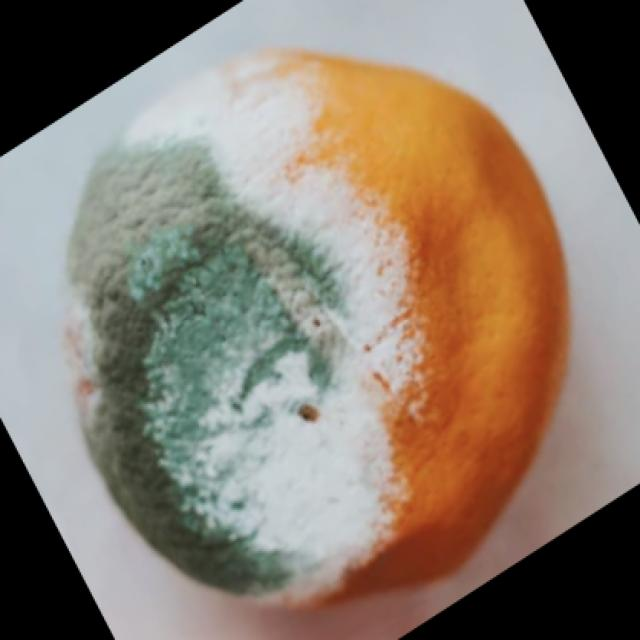sangat_busuk: (64, 45, 564, 610)
